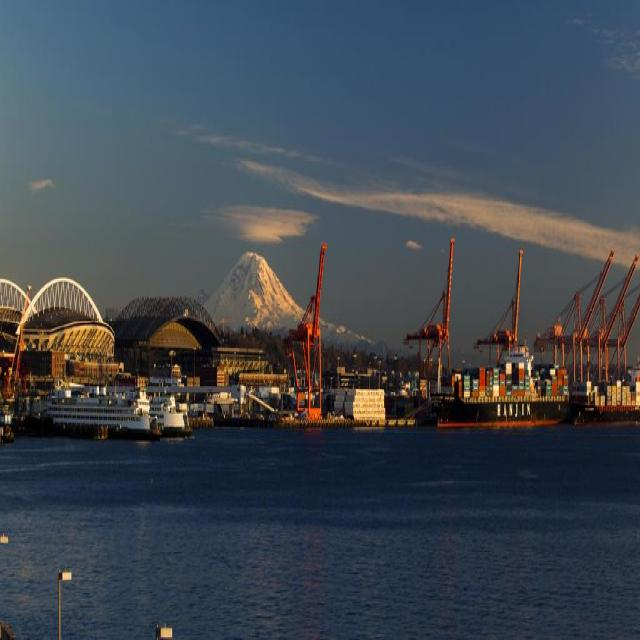Boat: (48, 376, 156, 442), (148, 387, 170, 446)
